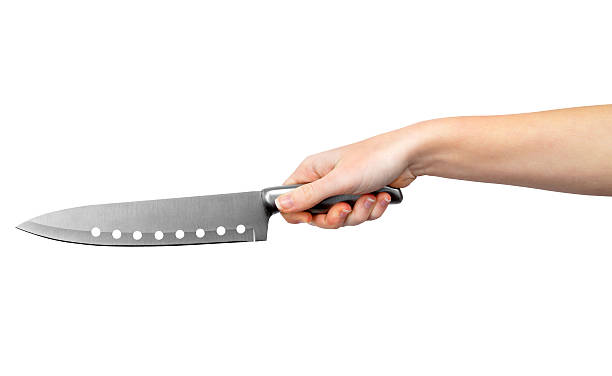knife: (12, 184, 405, 247)
